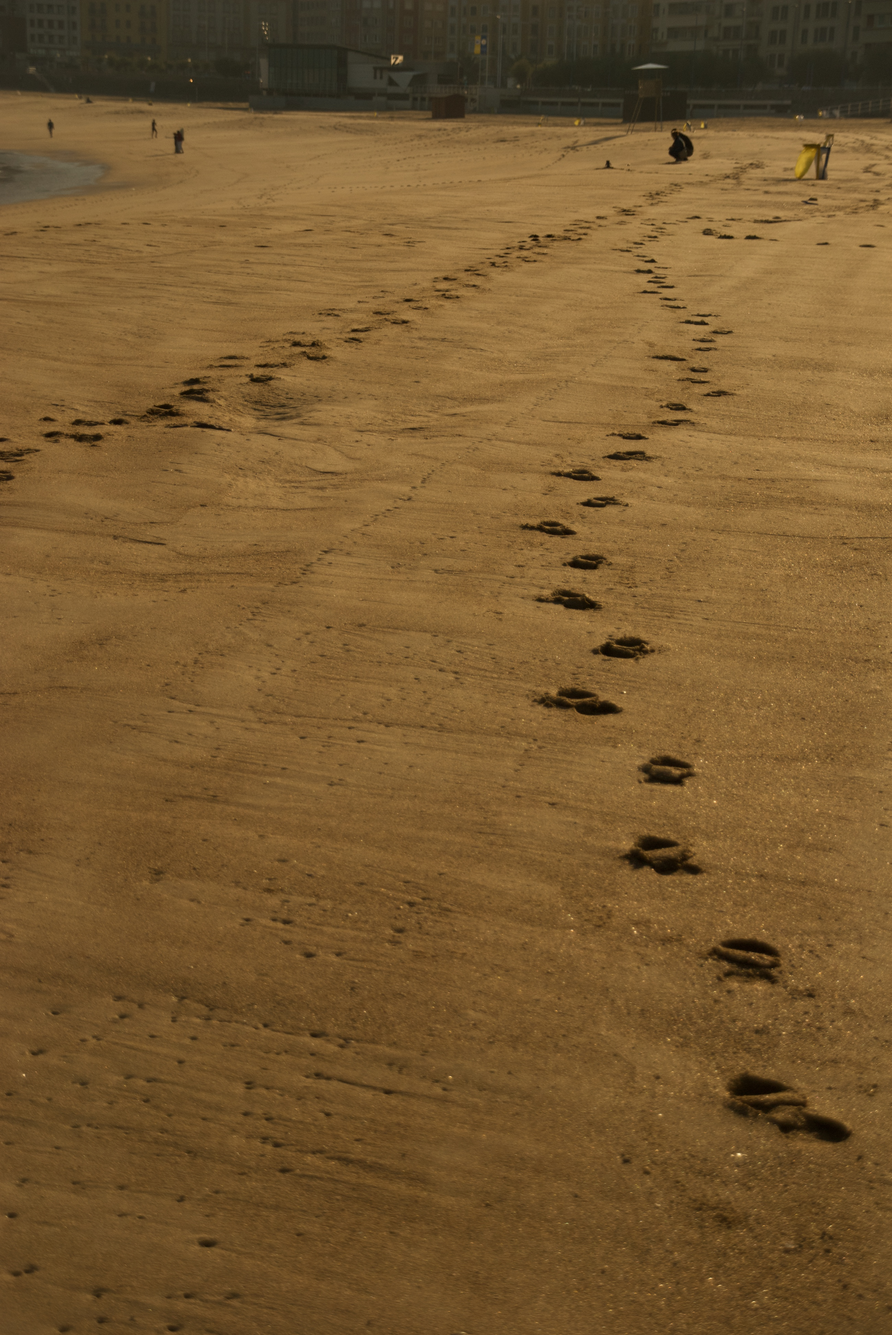human_footprint: (727, 1072, 852, 1142), (709, 937, 781, 982), (623, 835, 702, 875), (536, 688, 622, 715), (639, 754, 695, 785), (592, 636, 655, 660), (536, 588, 602, 610), (521, 520, 576, 536), (551, 466, 600, 481), (564, 553, 607, 569), (578, 496, 628, 508), (605, 451, 654, 461), (607, 432, 648, 440)
